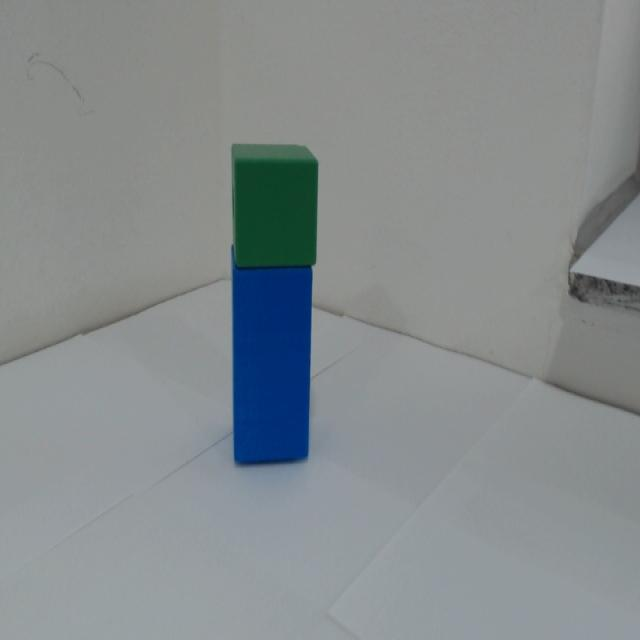cube: (229, 144, 323, 273)
